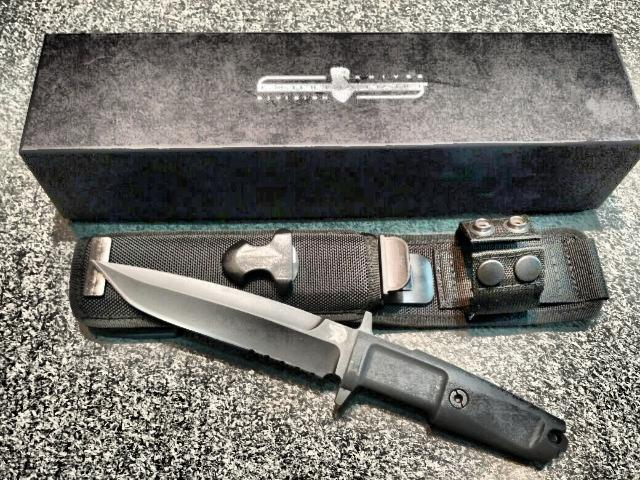knife: (75, 248, 388, 416)
